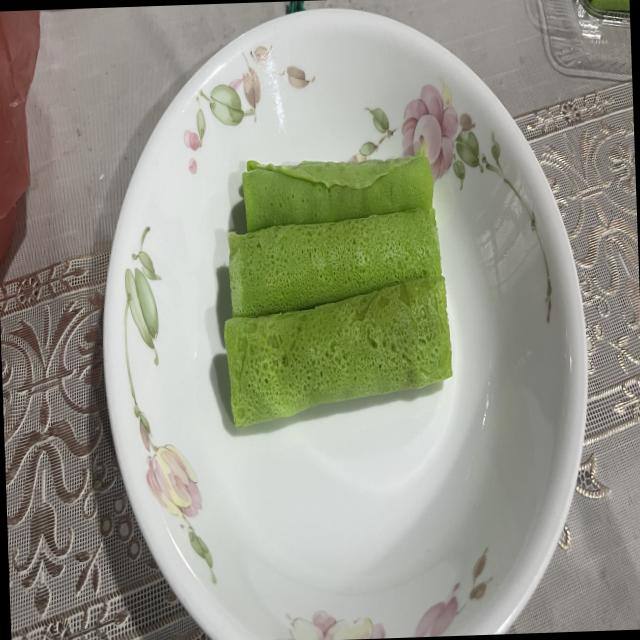Kuih-Ketayap: (224, 276, 452, 427), (228, 207, 441, 316), (242, 154, 433, 231)
